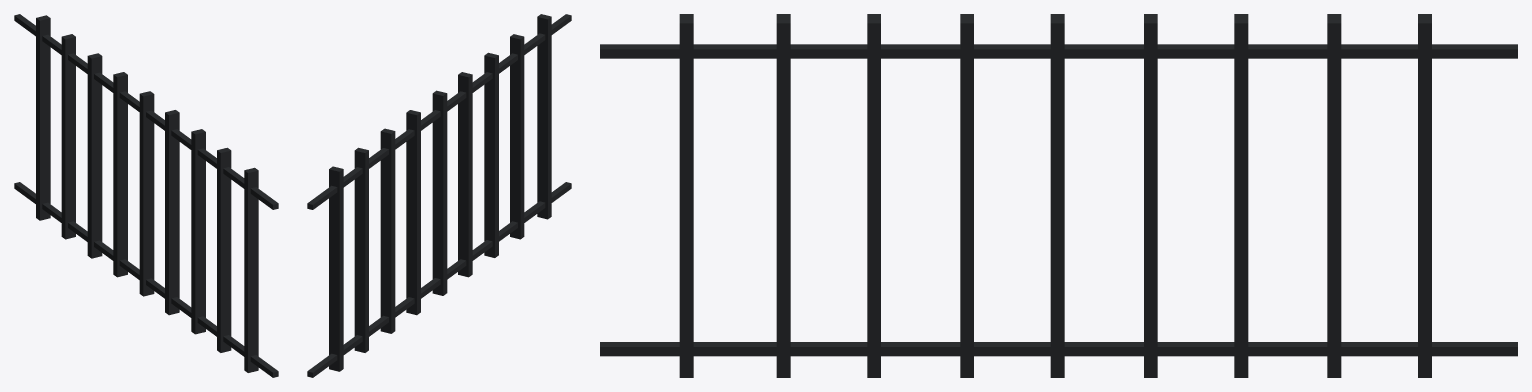
Rendered from park_fence.glb.
3 views of the same model, side by side, from view 1: azimuth 30°, elevation 25°; view 2: azimuth 150°, elevation 25°; view 3: azimuth 270°, elevation 25° (orthographic). The views are drawn at different scales.
Parts seen in each view (by area): view 1: SM_Env_Park_Fence_01; view 2: SM_Env_Park_Fence_01; view 3: SM_Env_Park_Fence_01.
Part boxes in pixels (bbox=[...]): SM_Env_Park_Fence_01: bbox=[14, 14, 278, 377]; SM_Env_Park_Fence_01: bbox=[307, 14, 571, 377]; SM_Env_Park_Fence_01: bbox=[600, 14, 1517, 377].
Bounding box in the file's own units: 0.0597 × 1.07 × 2.5.
Materials: 1 (1 with a texture image).
